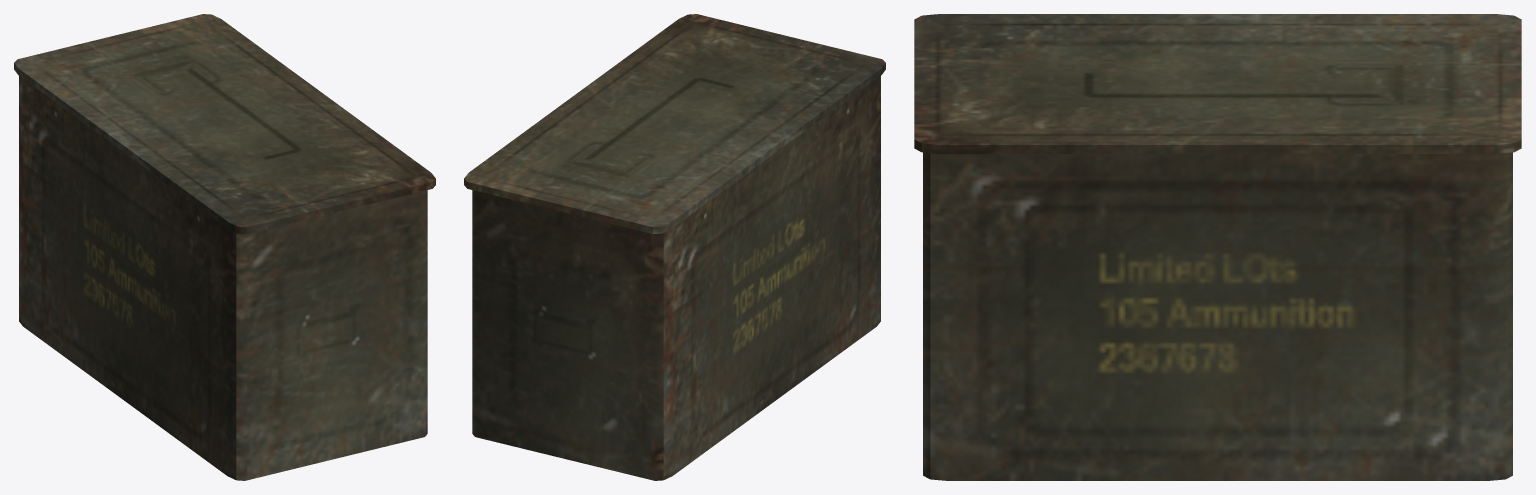
Rendered from mine_ammobox.DAE.
3 views of the same model, side by side, from view 1: azimuth 30°, elevation 25°; view 2: azimuth 150°, elevation 25°; view 3: azimuth 270°, elevation 25° (orthographic). The views are drawn at different scales.
Parts seen in each view (by area): view 1: pCube3; view 2: pCube3; view 3: pCube3.
Boxes of the visible parts, bbox=[...] form: pCube3: bbox=[14, 14, 435, 480]; pCube3: bbox=[464, 14, 885, 480]; pCube3: bbox=[914, 14, 1521, 480].
Bounding box in the file's own units: 16.66 × 20.14 × 32.67.
